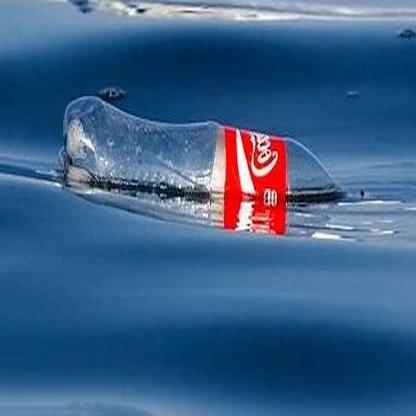plastic bottle: (58, 95, 368, 205)
